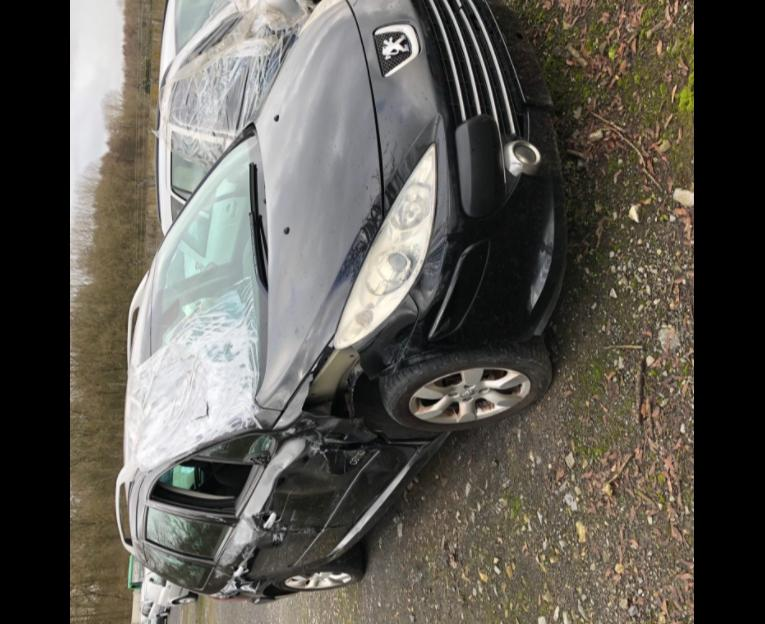Broken part: (268, 294, 422, 448)
Cracked: (136, 122, 270, 476)
Dent: (254, 448, 364, 532), (122, 350, 158, 464)
Missing part: (148, 454, 258, 514), (246, 432, 280, 470)
Paint chip: (310, 446, 332, 457)
Scratch: (276, 488, 290, 522), (262, 554, 270, 570), (288, 508, 296, 524)
